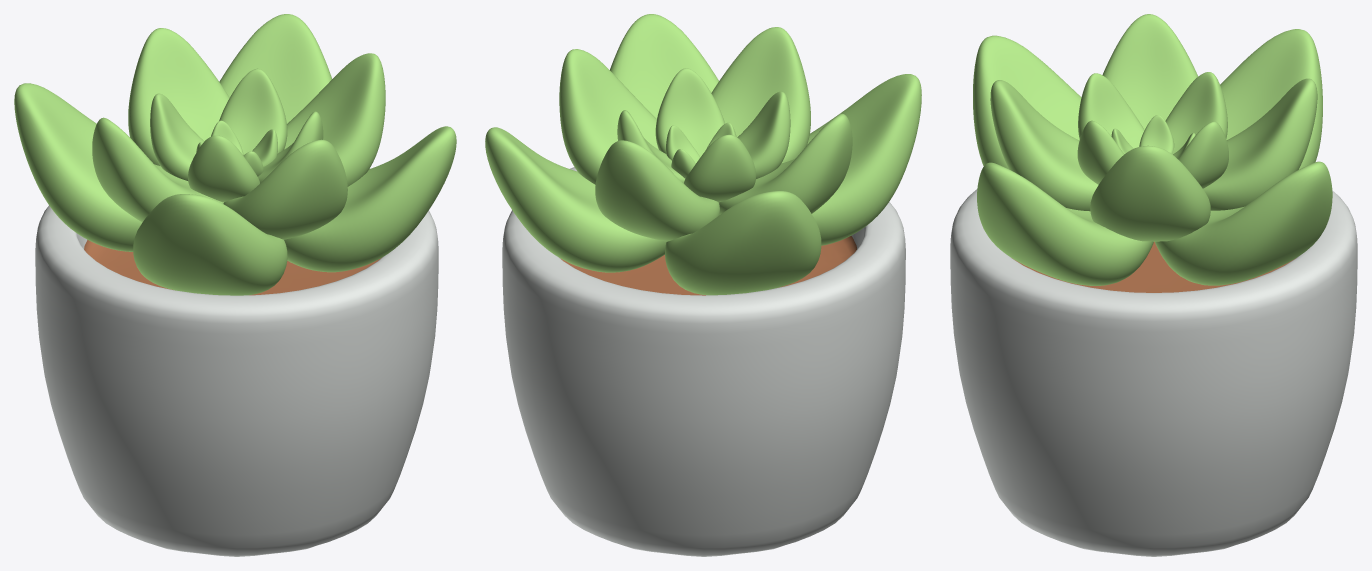
File: echeveria.glb
The picture shows the model from 3 angles, left to right: view 1: azimuth 30°, elevation 25°; view 2: azimuth 150°, elevation 25°; view 3: azimuth 270°, elevation 25°; orthographic projection.
Parts seen in each view (by area): view 1: pot, plant; view 2: pot, plant; view 3: pot, plant.
Boxes of the visible parts, x1,y1,x2,y2 form: pot: (35,168,438,556); plant: (14,14,456,295); pot: (502,167,905,556); plant: (485,14,921,295); pot: (950,189,1357,556); plant: (973,14,1332,285).
Size of the model in its own units: 13.52 by 15.6 by 13.52.
